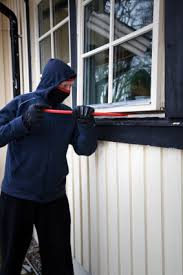crowbar: (21, 100, 134, 124)
